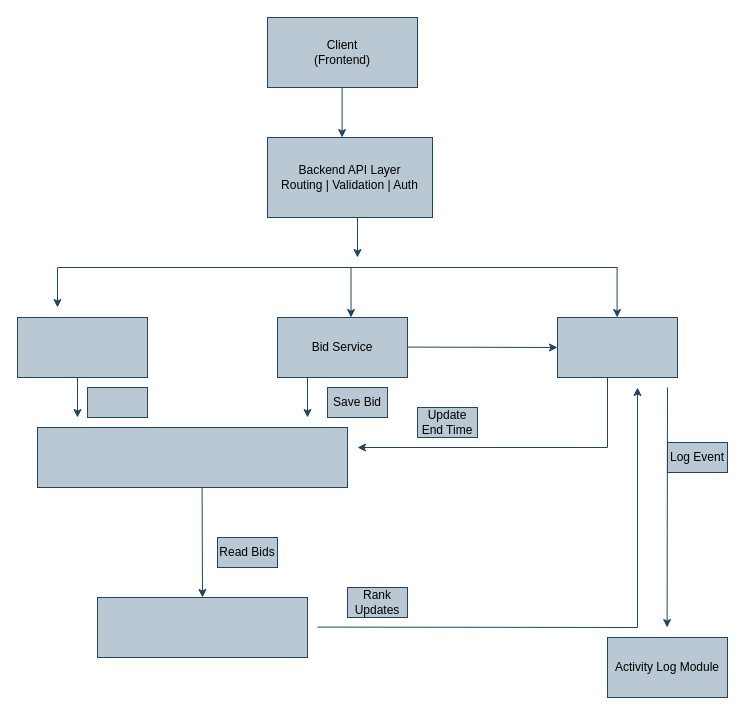
The diagram is 745 pixels wide and 715 high, and some of its shapes have lost their labels. The shapes that lost their labels are listed below. From the top down, each one's box as (x1, y1, x2, y2) in pixels, then its label:
(16, 316, 148, 378): RFQ Service
(556, 316, 678, 378): Auction Engine
(86, 386, 148, 418): Create / Update
(36, 426, 348, 488): PostgreSQL DB
(96, 596, 308, 658): Ranking Module (L1 , L2 , L3...)
